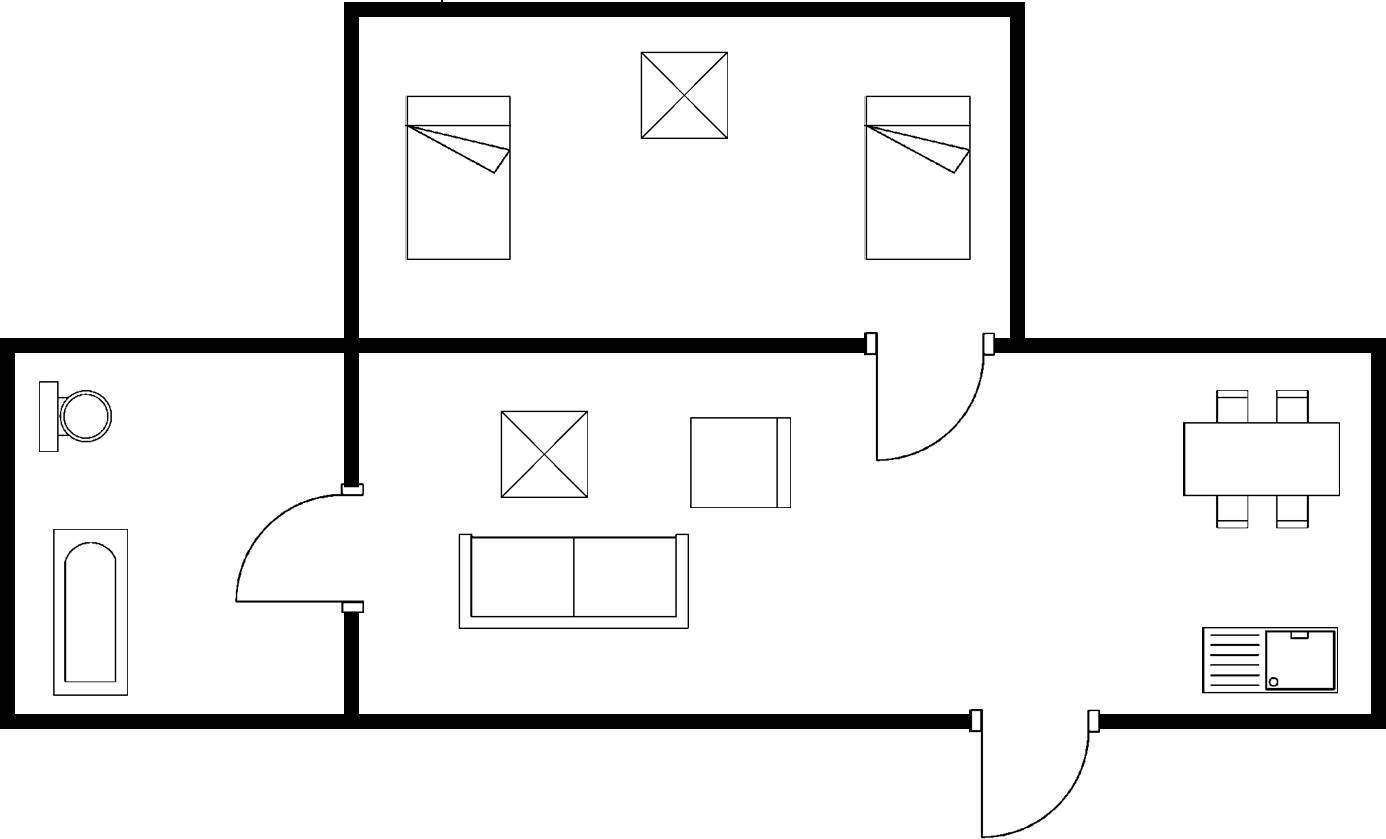bed: (859, 88, 976, 266), (402, 89, 515, 267)
coffee_table: (492, 403, 596, 504), (634, 46, 736, 143)
dining_table: (1176, 384, 1345, 536)
large_sink: (32, 373, 116, 460)
large_sofa: (450, 529, 696, 637)
sink: (1196, 621, 1343, 699)
small_sofa: (685, 411, 796, 517)
tub: (45, 522, 134, 703)
